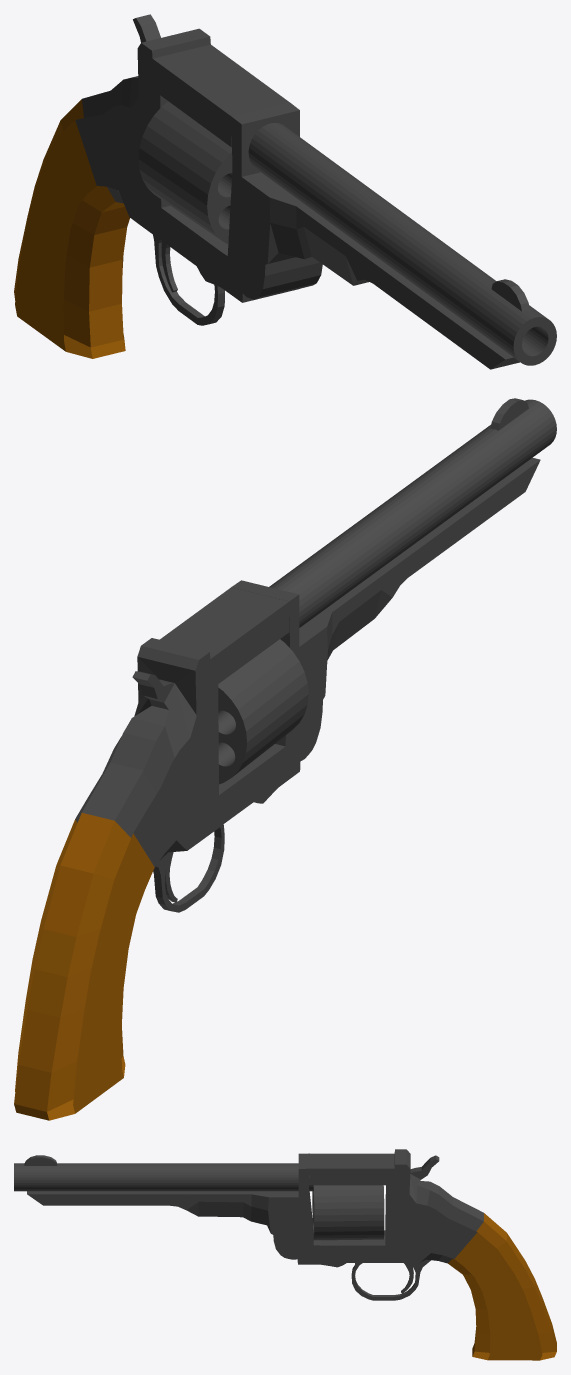
Rendered from revolver.glb.
The picture shows the model from 3 angles, top to bottom: view 1: azimuth 30°, elevation 25°; view 2: azimuth 150°, elevation 25°; view 3: azimuth 270°, elevation 25°; orthographic projection. The views are drawn at different scales.
Parts seen in each view (by area): view 1: Main, Barrel, Cylinder, TriggerGuard, FrontSight; view 2: Main, Barrel, Cylinder, TriggerGuard; view 3: Main, Barrel, Cylinder, TriggerGuard, FrontSight.
Boxes of the visible parts, box(x1,y1,x2,y2) form: Main: box(14, 14, 519, 369); Barrel: box(248, 123, 556, 365); Cylinder: box(138, 101, 232, 244); TriggerGuard: box(153, 235, 224, 325); FrontSight: box(491, 279, 529, 311); Main: box(14, 457, 540, 1120); Barrel: box(269, 399, 556, 639); Cylinder: box(218, 639, 308, 784); TriggerGuard: box(153, 824, 224, 912); Main: box(27, 1149, 556, 1360); Barrel: box(14, 1163, 313, 1191); Cylinder: box(312, 1185, 384, 1240); TriggerGuard: box(351, 1259, 430, 1300); FrontSight: box(24, 1155, 57, 1165).
Bounding box in the file's own units: 0.5844 × 1.87 × 4.68.
